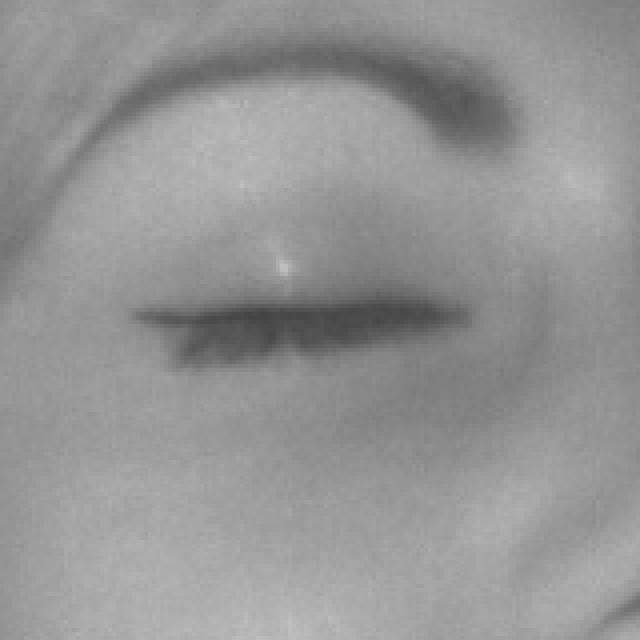Eyeclosed: (119, 186, 470, 454)
